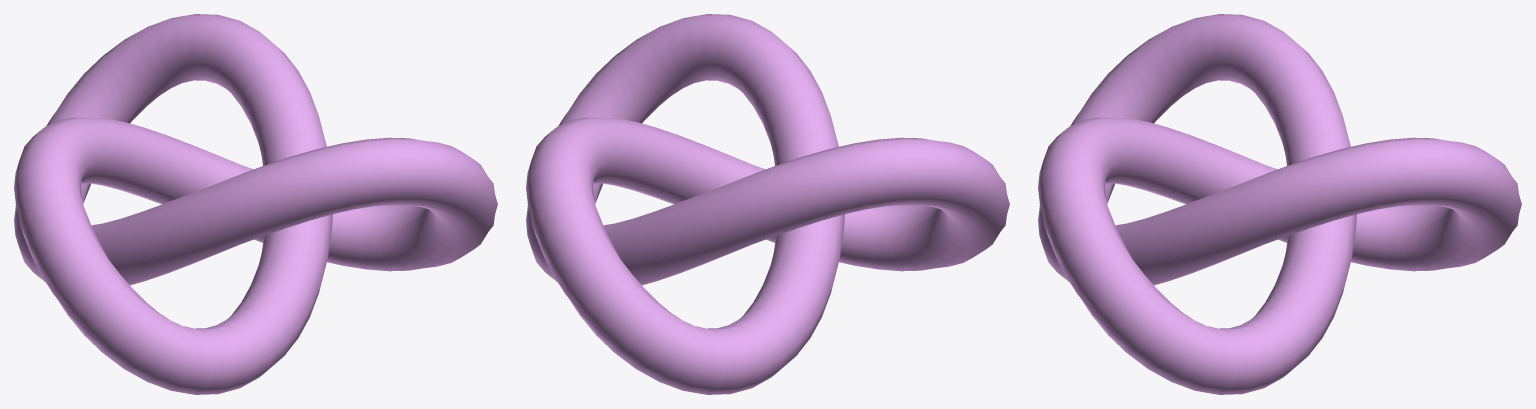
The model's file is knot.gltf.
3 renders of one model, left to right at view 1: azimuth 30°, elevation 25°; view 2: azimuth 150°, elevation 25°; view 3: azimuth 270°, elevation 25°, orthographic.
Parts seen in each view (by area): view 1: knot; view 2: knot; view 3: knot.
Boxes of the visible parts, left/top/right/bottom form: knot: left=14, top=14, right=497, bottom=394; knot: left=526, top=14, right=1009, bottom=394; knot: left=1038, top=14, right=1521, bottom=394.
Size of the model in its own units: 1.38 by 0.62 by 1.29.
